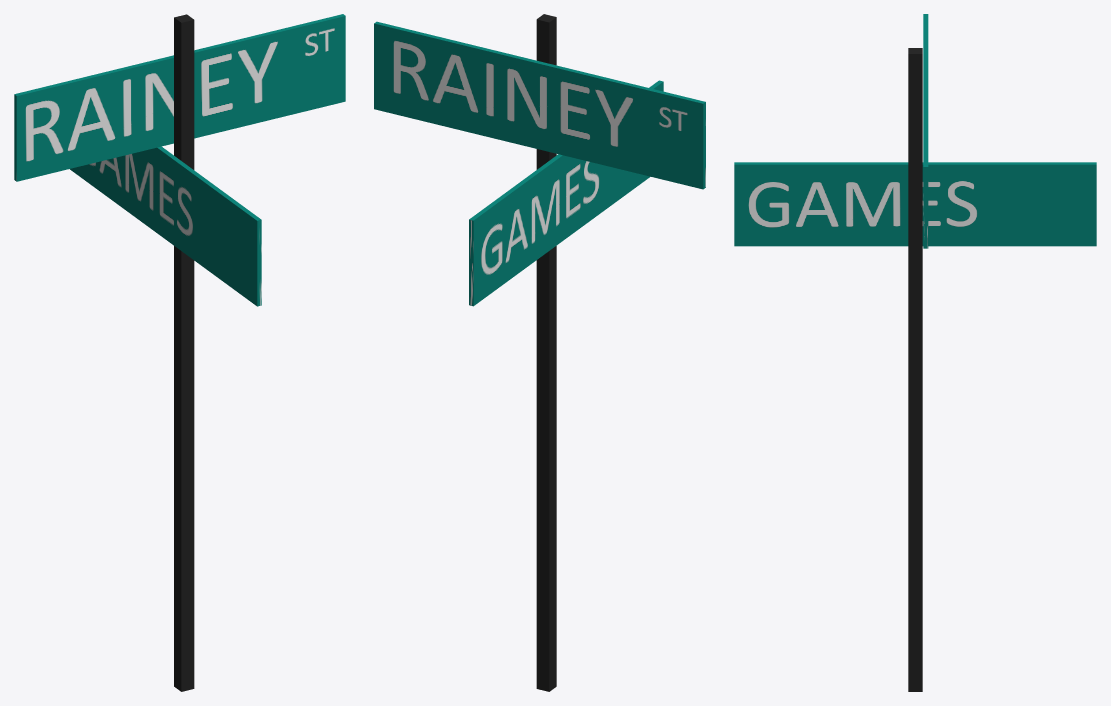
The model's file is rainey_street_sign.obj.
3 views of the same model, side by side, from view 1: azimuth 30°, elevation 25°; view 2: azimuth 150°, elevation 25°; view 3: azimuth 270°, elevation 25° (orthographic). The views are drawn at different scales.
Parts seen in each view (by area): view 1: pCube1, pasted__pCube1 group, pCube2; view 2: pCube1, pasted__pCube1 group, pCube2; view 3: pasted__pCube1 group, pCube2, pCube1.
Boxes of the visible parts, x1,y1,x2,y2 form: pCube1: [14, 14, 345, 181]; pasted__pCube1 group: [70, 146, 261, 306]; pCube2: [174, 14, 194, 691]; pCube1: [374, 21, 705, 189]; pasted__pCube1 group: [469, 80, 663, 306]; pCube2: [536, 14, 556, 691]; pasted__pCube1 group: [734, 162, 1096, 246]; pCube2: [908, 48, 922, 691]; pCube1: [923, 14, 928, 248].
Bounding box in the file's own units: 3.15 × 6.11 × 3.15.
